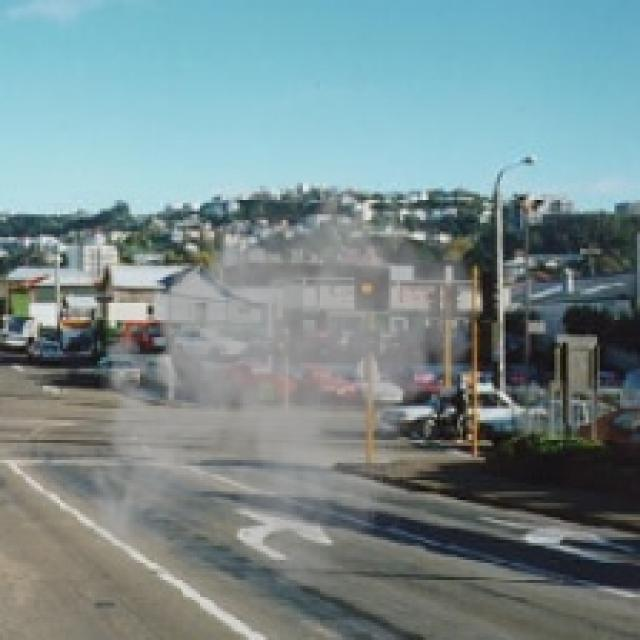smoke: (77, 177, 486, 592)
